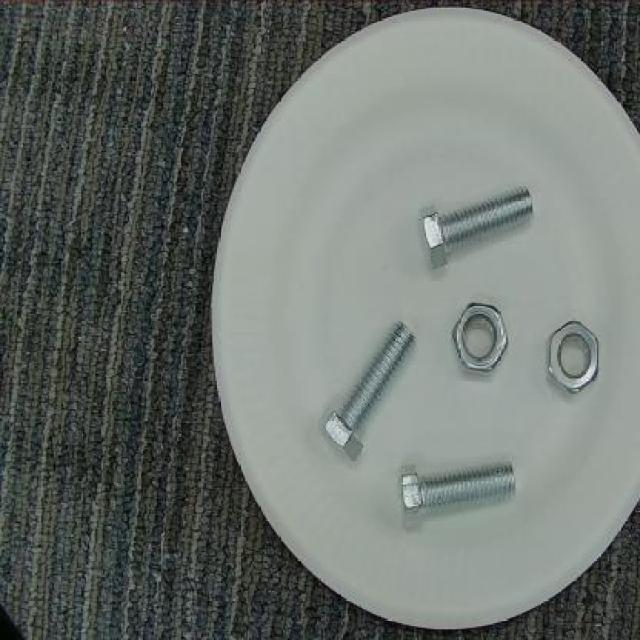Bolt: (319, 320, 422, 465), (417, 182, 541, 272), (396, 455, 522, 531)
Nut: (539, 316, 603, 396), (451, 300, 516, 377)
